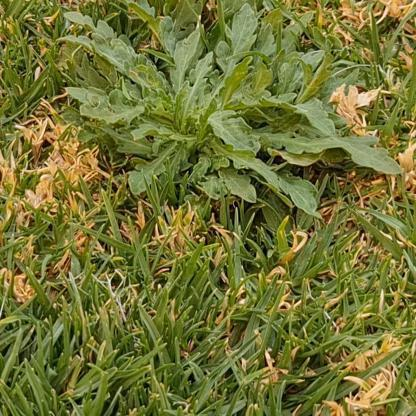Weeds: (56, 0, 402, 219)
